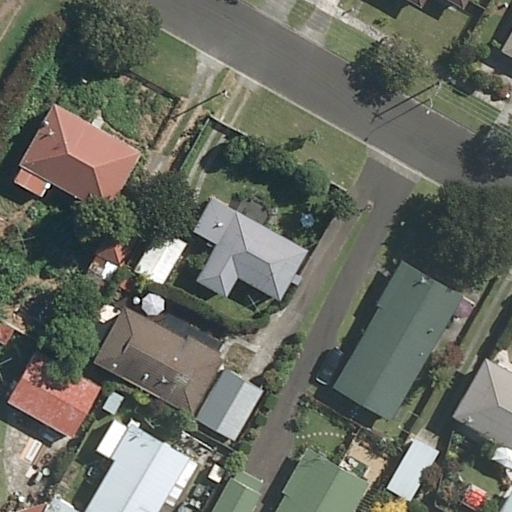DT: (427, 74, 448, 99)
